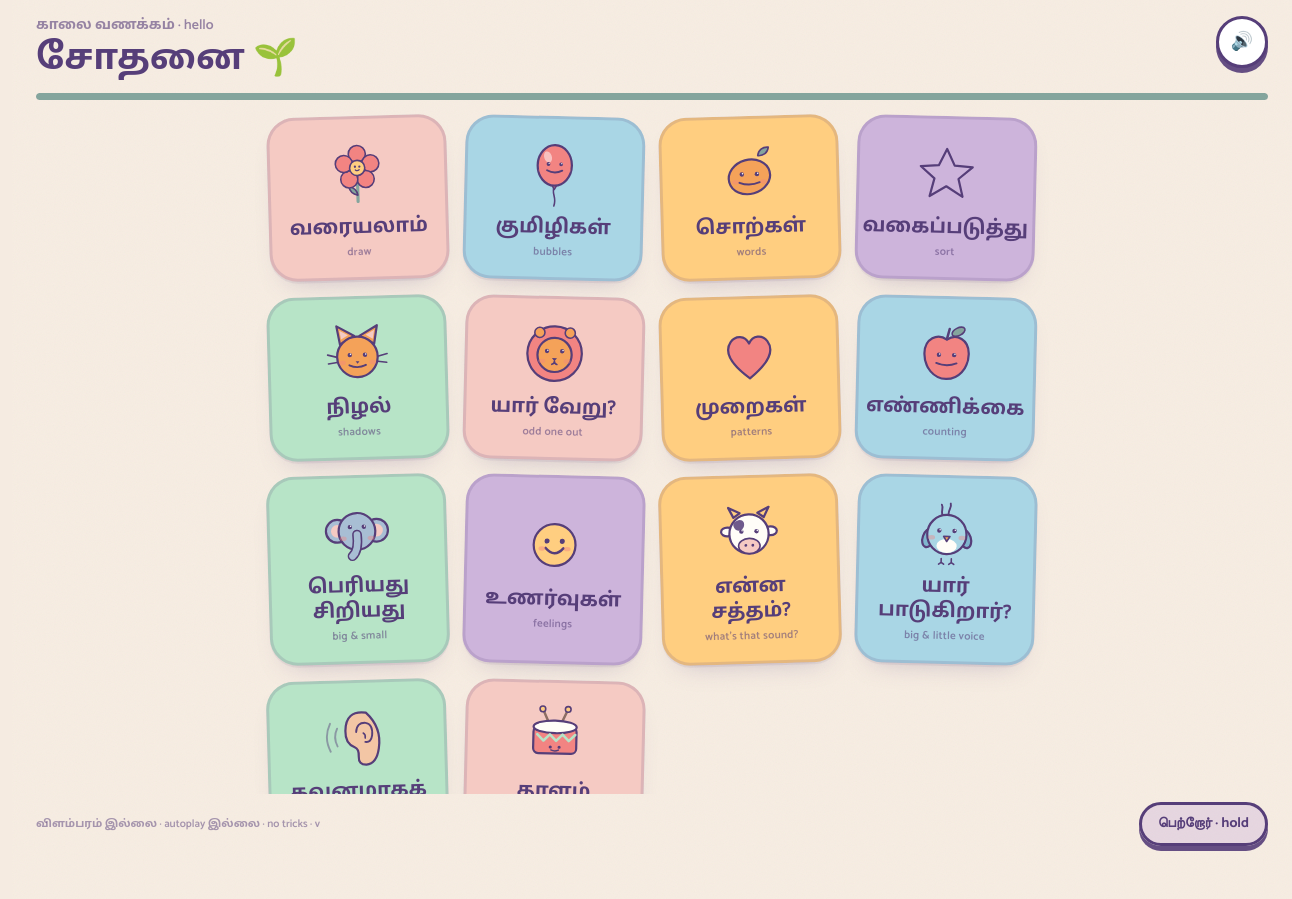
Test: Home — the sound button › is the same switch as the parents’ setting: it persists
Click the button named "sound" at (1242, 42), box [1216, 16, 1268, 68]
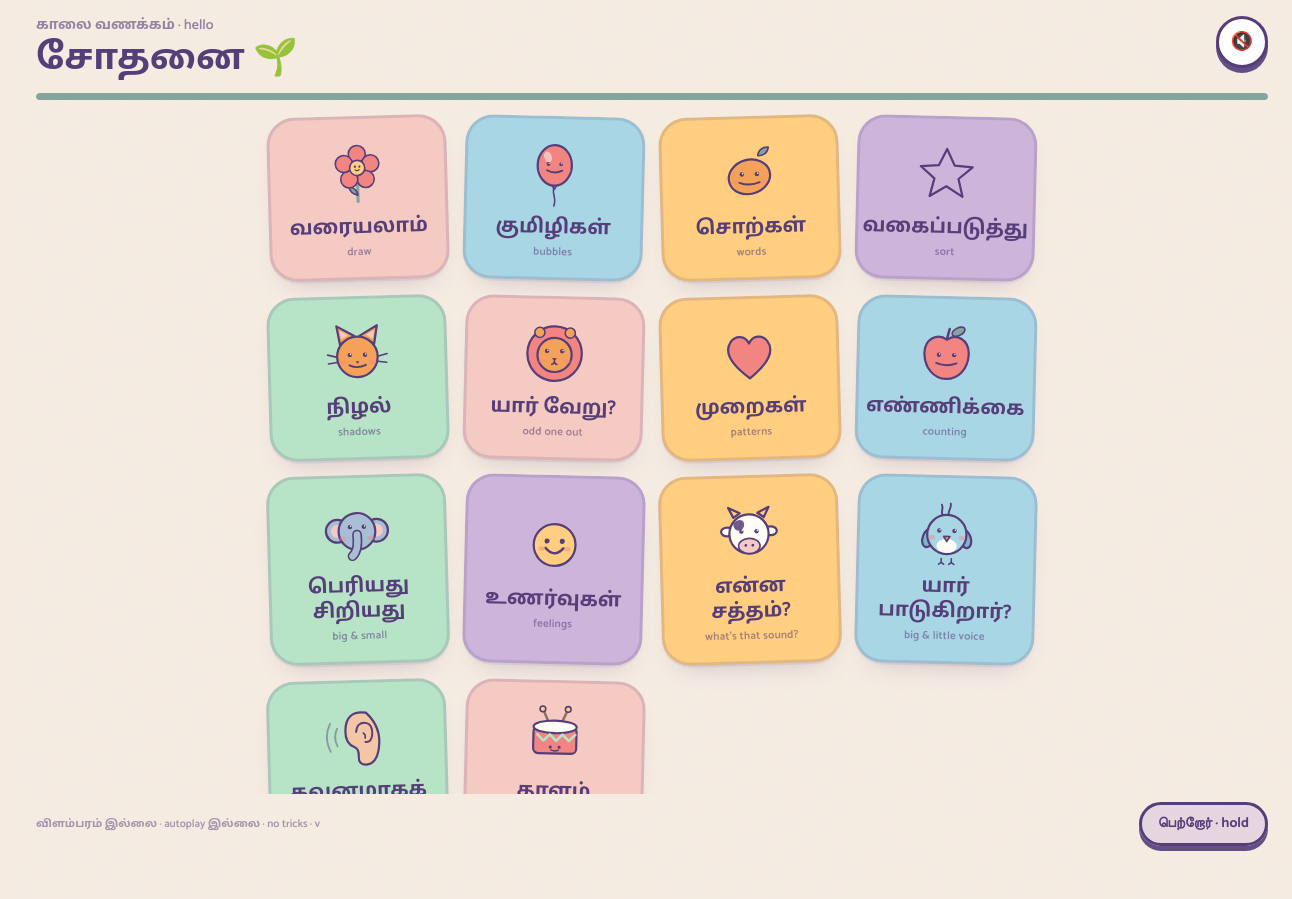
Result: the button named "sound" reads "🔇" at [1216, 16, 1268, 68]
